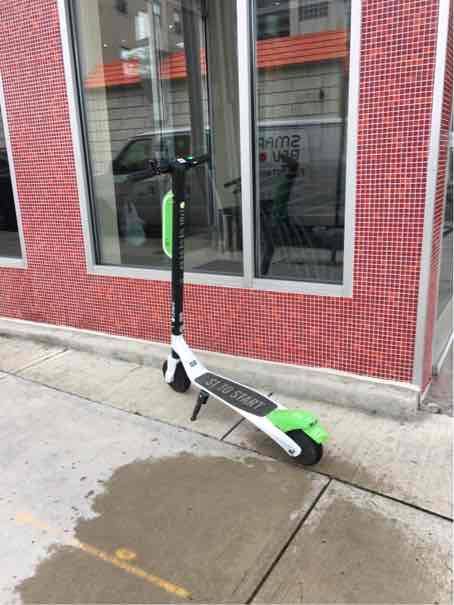scooter: (106, 143, 329, 459)
